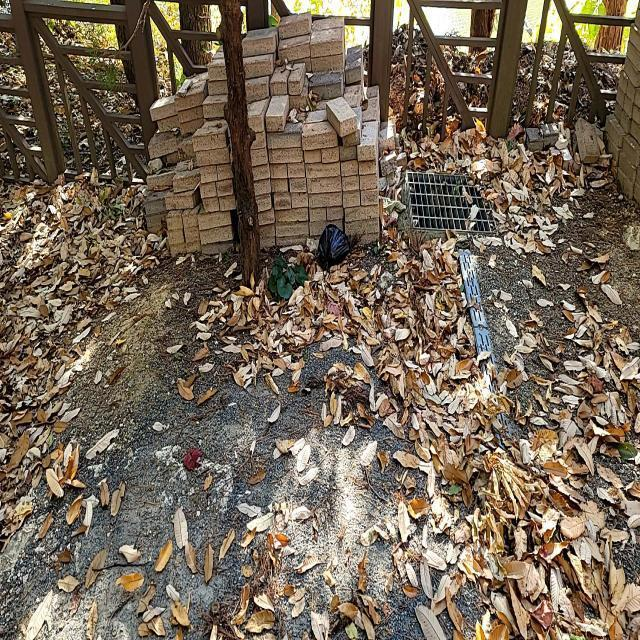Trashbag: (313, 221, 355, 286)
